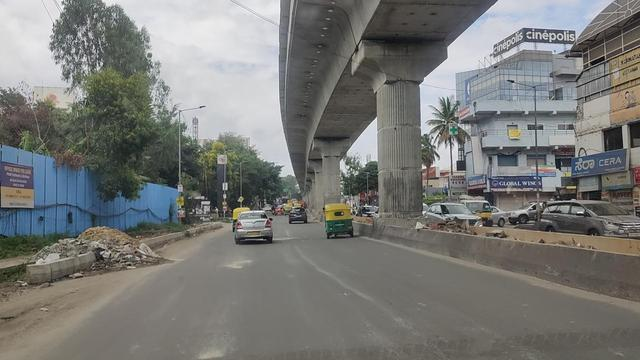LMV: (235, 211, 273, 246), (323, 203, 355, 240)
